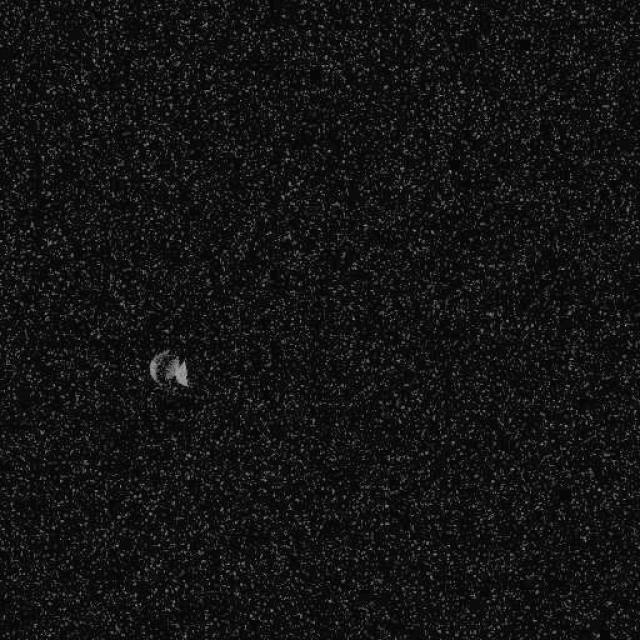D2: (148, 348, 190, 390)
